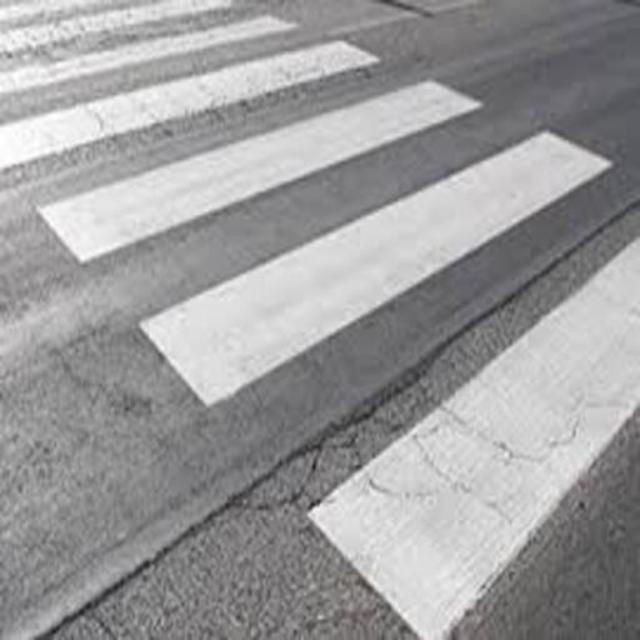sidewalk: (1, 0, 639, 640)
